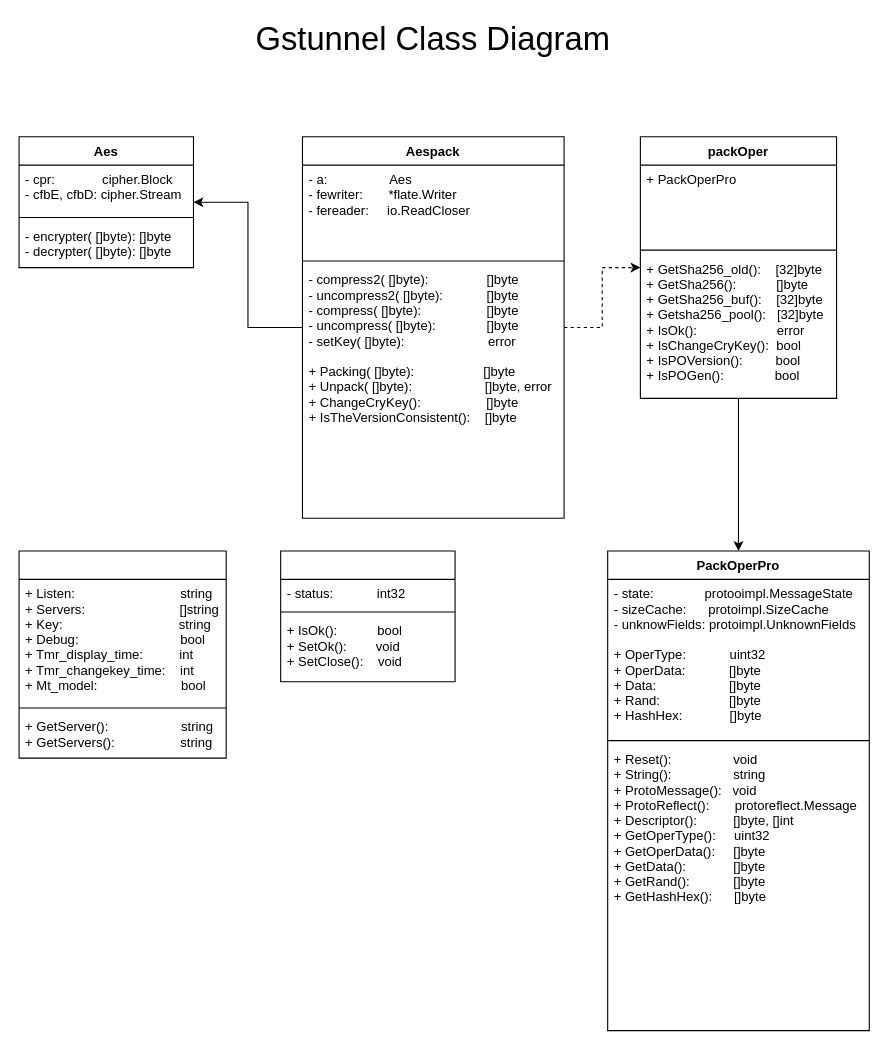
This 888x1052 diagram has some shape labels left out. The box of each missing label's shape, as (x1, y1, x2, y2) in pixels:
Gorou_status: (280, 550, 455, 682)
GsConfig: (18, 550, 226, 758)
